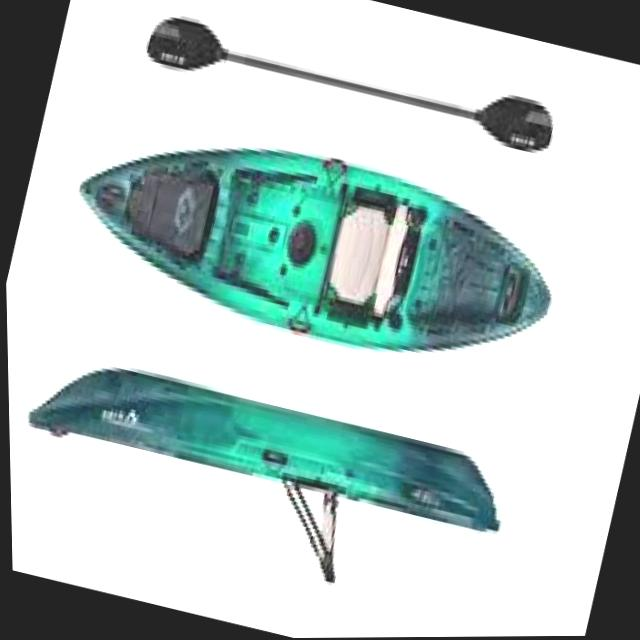ship2: (25, 365, 498, 583), (77, 144, 553, 354)
